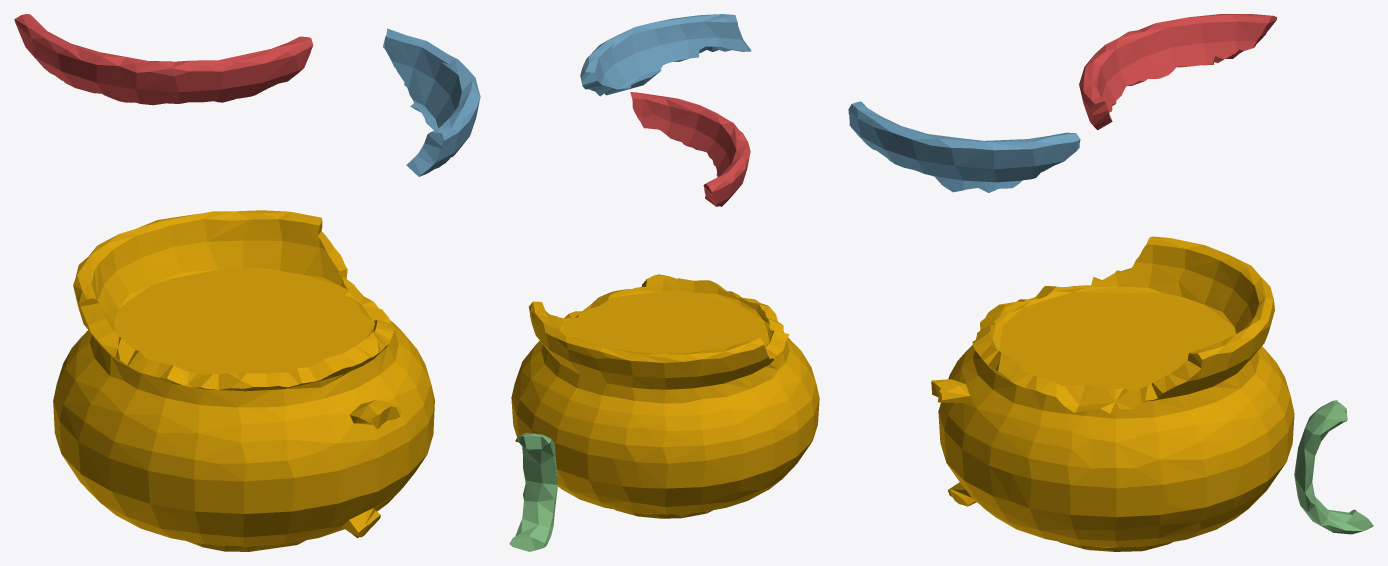
The model's file is mode_3_4pcs_transformed.glb.
3 renders of one model, left to right at view 1: azimuth 30°, elevation 25°; view 2: azimuth 150°, elevation 25°; view 3: azimuth 270°, elevation 25°, orthographic. The views are drawn at different scales.
Parts seen in each view (by area): view 1: piece_0.obj, piece_1.obj, piece_2.obj; view 2: piece_0.obj, piece_2.obj, piece_1.obj, piece_3.obj; view 3: piece_0.obj, piece_1.obj, piece_2.obj, piece_3.obj.
Boxes of the visible parts, x1,y1,x2,y2 form: piece_0.obj: (53,210,434,551); piece_1.obj: (14,14,313,105); piece_2.obj: (383,28,480,176); piece_0.obj: (511,274,819,518); piece_2.obj: (580,14,751,96); piece_1.obj: (630,92,750,206); piece_3.obj: (509,433,557,551); piece_0.obj: (931,236,1294,551); piece_1.obj: (1079,14,1277,130); piece_2.obj: (848,101,1080,192); piece_3.obj: (1294,400,1373,534).
Bounding box in the file's own units: 0.878 × 1.2 × 1.29.
